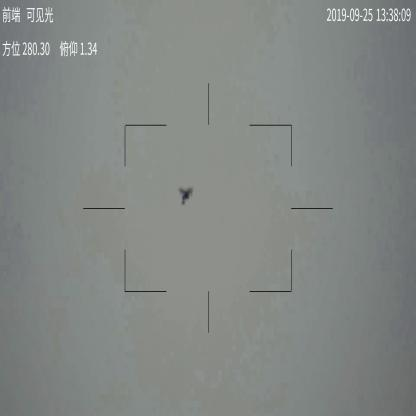uav: (179, 184, 194, 207)
